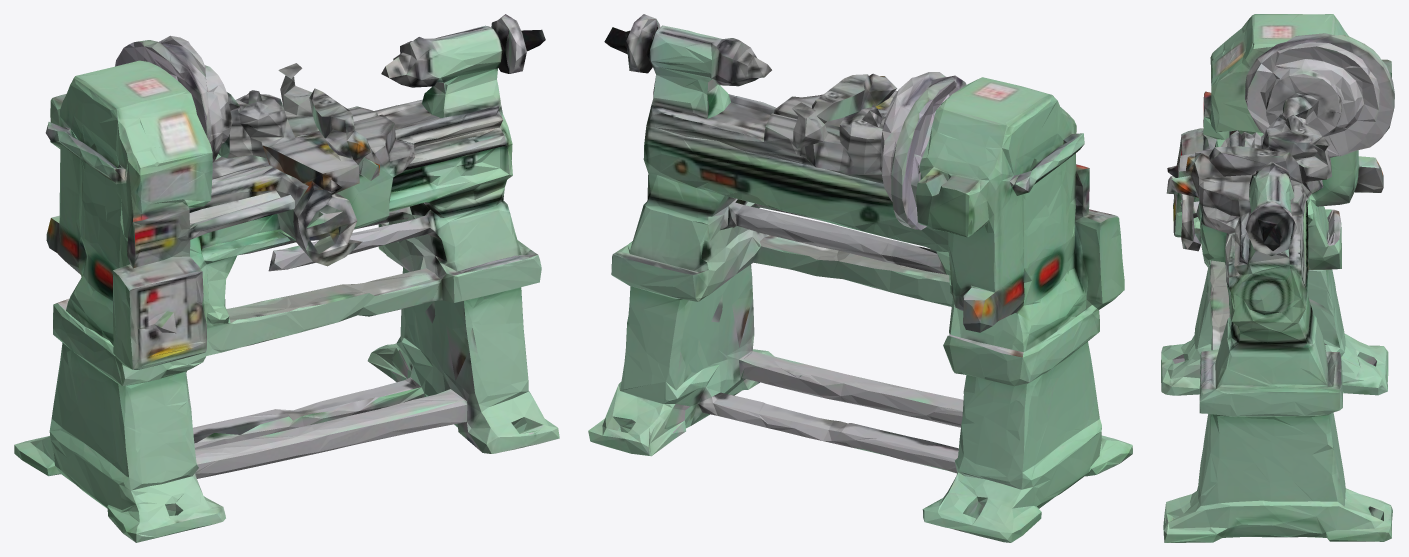
The model's file is bj89_c6140_lathe.glb.
3 renders of one model, left to right at view 1: azimuth 30°, elevation 25°; view 2: azimuth 150°, elevation 25°; view 3: azimuth 270°, elevation 25°, orthographic. The views are drawn at different scales.
Parts seen in each view (by area): view 1: bj89_c6140_lathe_tex; view 2: bj89_c6140_lathe_tex; view 3: bj89_c6140_lathe_tex.
Part boxes in pixels (bbox=[...]): bj89_c6140_lathe_tex: bbox=[14, 14, 559, 542]; bj89_c6140_lathe_tex: bbox=[588, 14, 1132, 542]; bj89_c6140_lathe_tex: bbox=[1161, 14, 1394, 542].
Bounding box in the file's own units: 2.4 × 1.99 × 1.14.
Materials: 1 (1 with a texture image).
